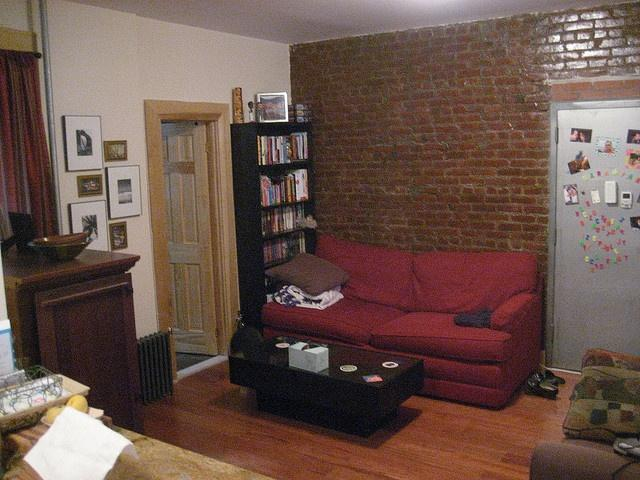Rak: (229, 121, 317, 303)
